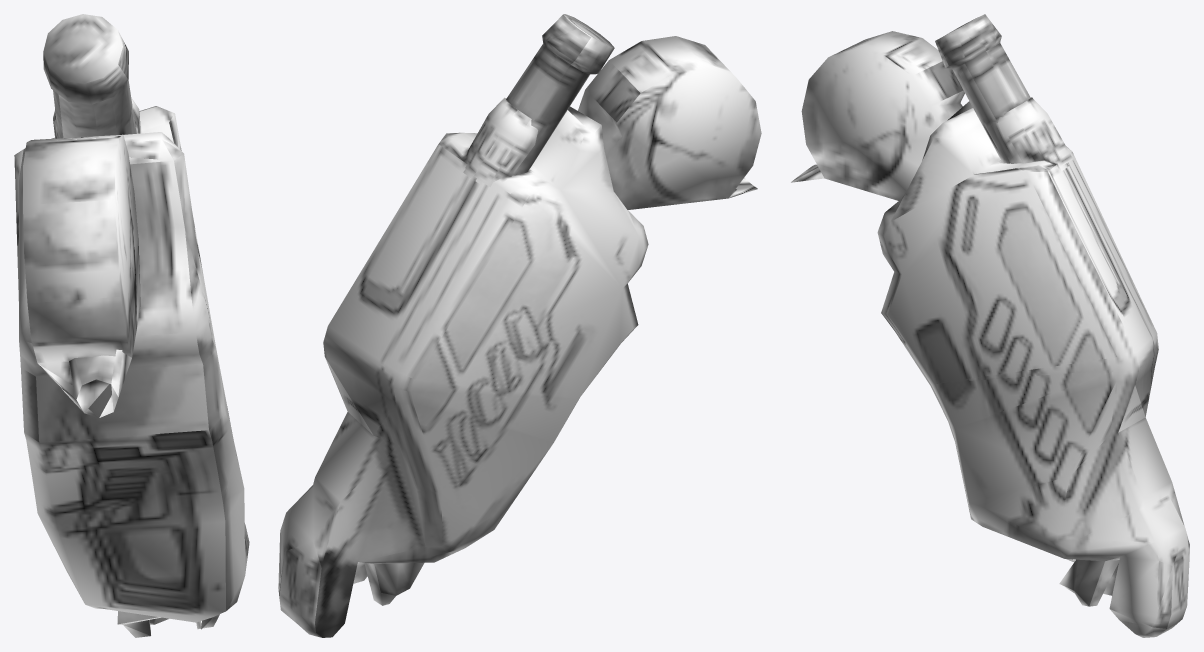
Rendered from bl_shin.glb.
3 renders of one model, left to right at view 1: azimuth 30°, elevation 25°; view 2: azimuth 150°, elevation 25°; view 3: azimuth 270°, elevation 25°, orthographic. The views are drawn at different scales.
Parts seen in each view (by area): view 1: bl_shin; view 2: bl_shin; view 3: bl_shin.
Part boxes in pixels (x1,y1,x2,y2): bl_shin: (14, 14, 249, 637); bl_shin: (278, 14, 761, 637); bl_shin: (791, 14, 1189, 637).
Size of the model in its own units: 2.98 by 5.26 by 3.51.
Materials: 3 (3 with a texture image).
